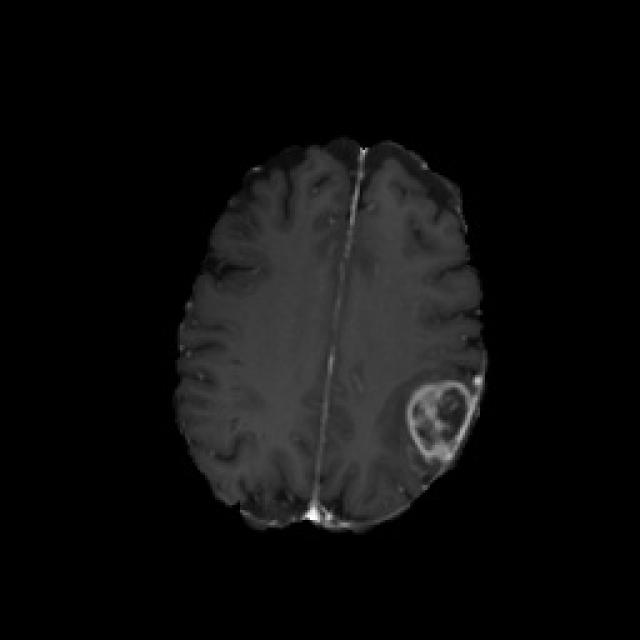negative: (409, 381, 471, 461)
